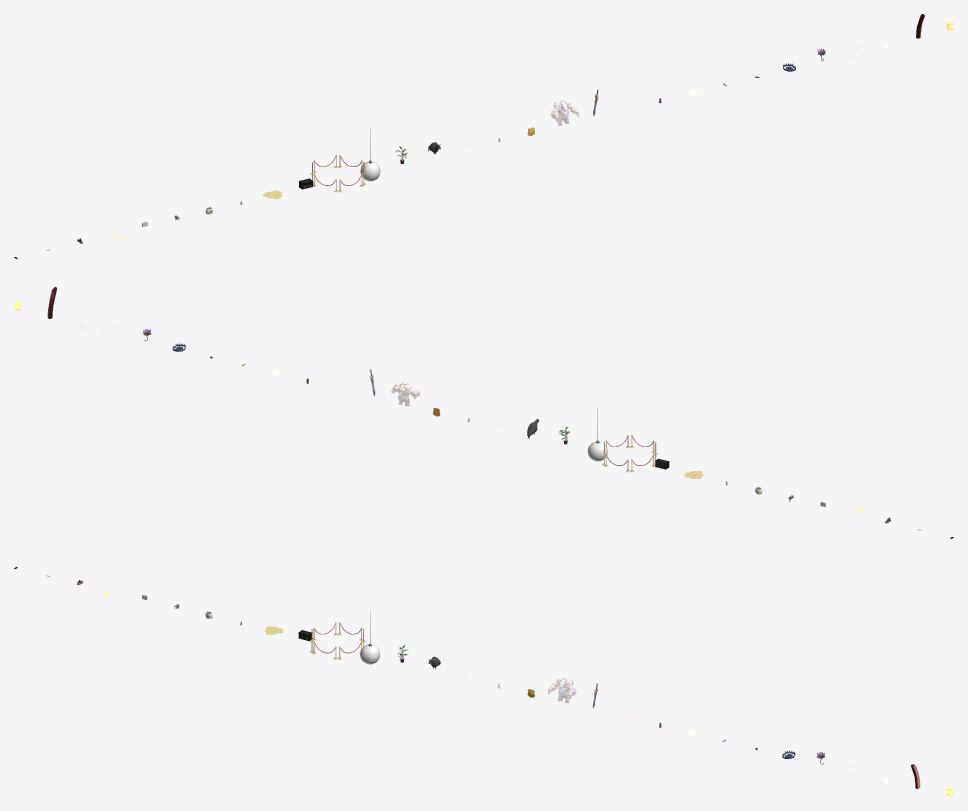
3 renders of one model, top to bottom at view 1: azimuth 30°, elevation 25°; view 2: azimuth 150°, elevation 25°; view 3: azimuth 330°, elevation 25°, orthographic.
Size of the model in its own units: 116 by 6.3 by 6.03.
68 materials, 33 textured.
